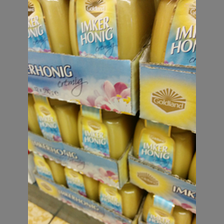honey: (69, 1, 140, 59), (133, 119, 193, 178), (77, 105, 135, 162), (32, 95, 79, 150), (27, 1, 70, 54), (98, 179, 142, 216), (63, 167, 98, 201), (32, 154, 63, 188)
